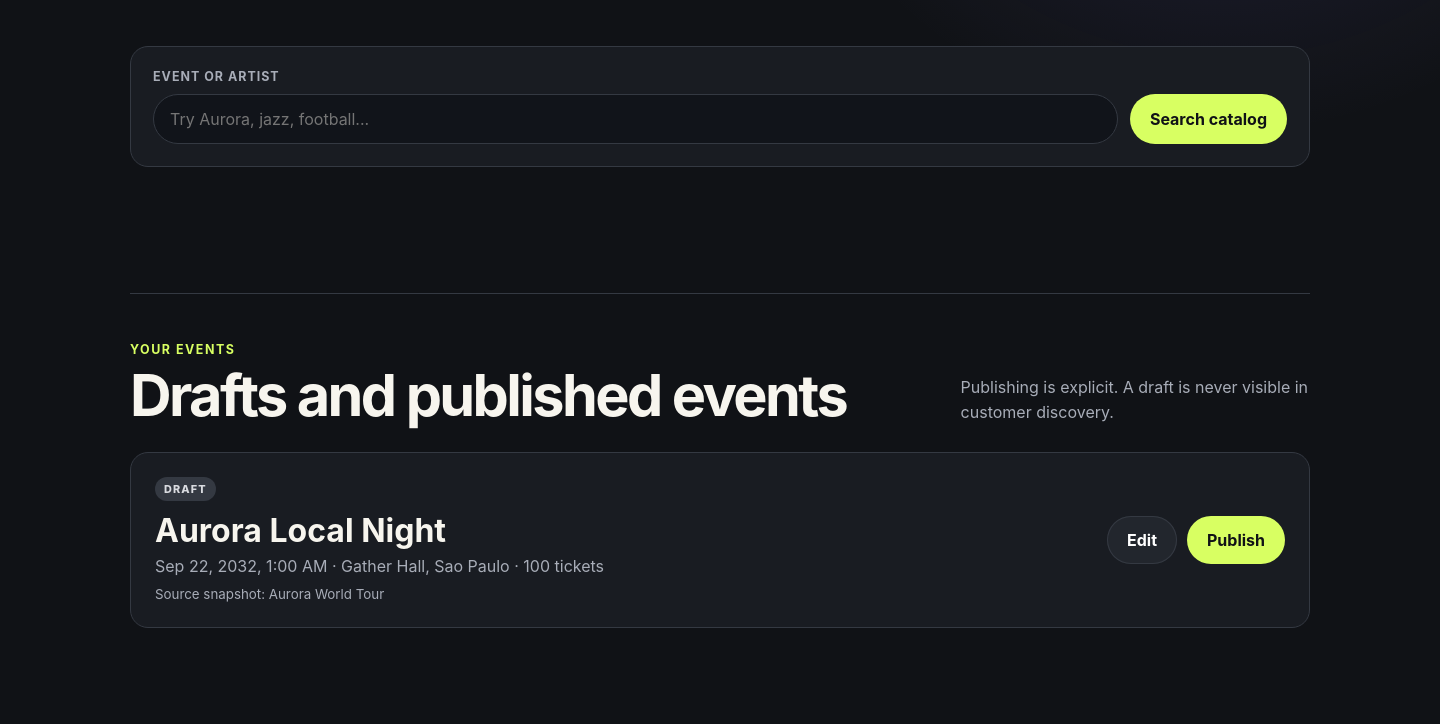
Test: OrganizerCatalogPage › publishes an owned draft only after an explicit action
(page scrolled)
Expected: the text "draft" is shown, [155, 477, 216, 501]
Click the button "Publish" at (1236, 540), box [1187, 516, 1285, 564]
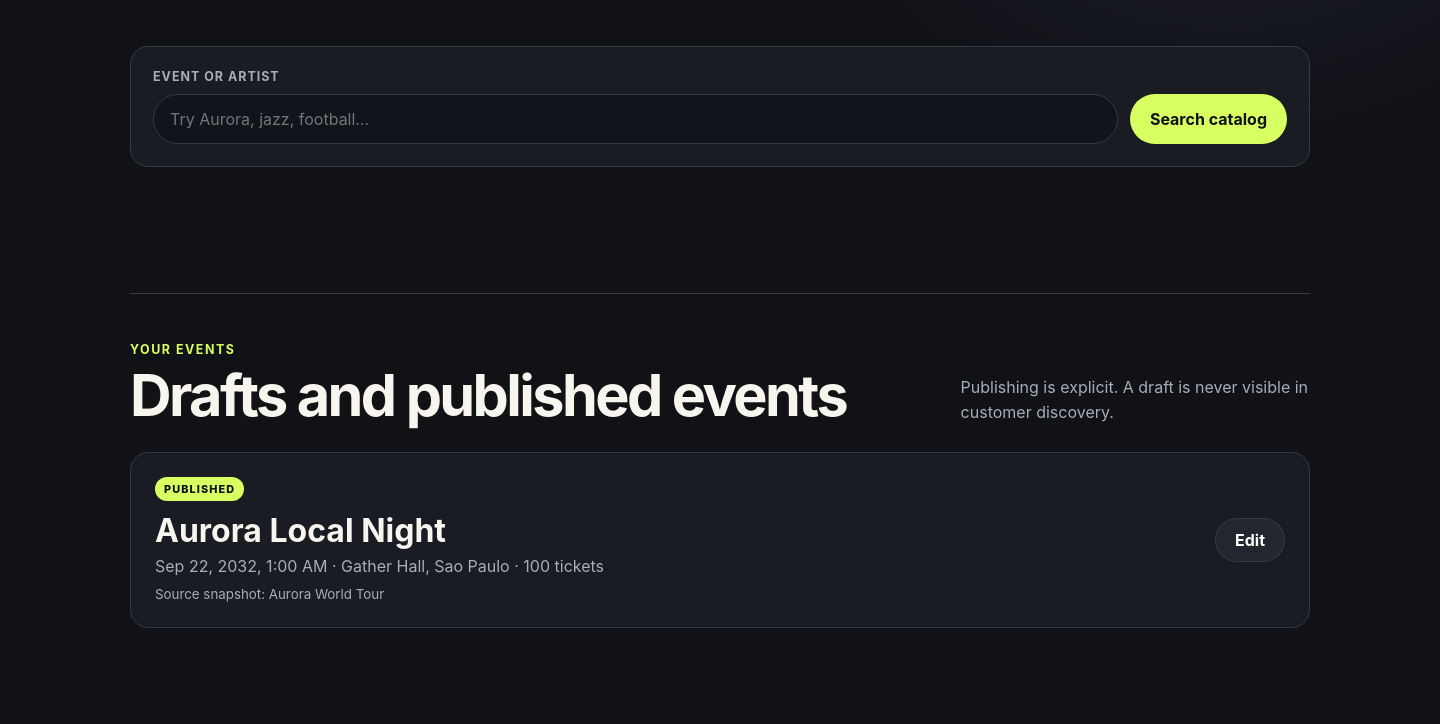
Now the text "published" is shown, box [155, 477, 244, 501]
